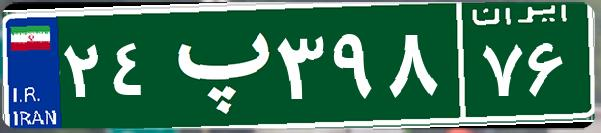2: (57, 26, 110, 107)
3: (273, 28, 330, 110)
4: (110, 28, 158, 105)
6: (525, 38, 570, 115)
7: (475, 38, 525, 113)
8: (385, 28, 445, 110)
9: (330, 28, 385, 110)
پ: (158, 15, 273, 115)
